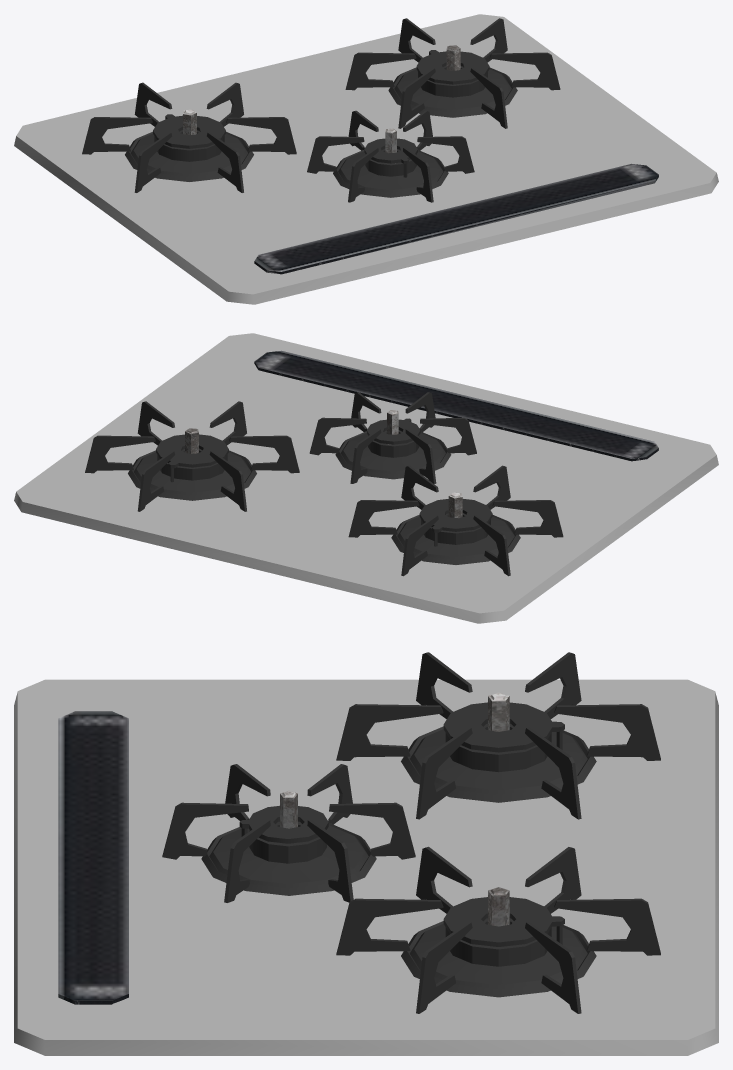
The model's file is SM_Stove_1.fbx.
3 renders of one model, top to bottom at view 1: azimuth 30°, elevation 25°; view 2: azimuth 150°, elevation 25°; view 3: azimuth 270°, elevation 25°, orthographic. The views are drawn at different scales.
Visible parts, largest first — view 1: GDLM1221_GDLM948_mLayer55_157, GDLM1162_GDLM769_mLayer112_52.026, GDLM1266_GDLM1079_mLayer62_241.001, GDLM1219_GDLM941_mLayer63_153, GDLM1162_GDLM769_mLayer112_52.010; view 2: GDLM1221_GDLM948_mLayer55_157, GDLM1162_GDLM769_mLayer112_52.026, GDLM1266_GDLM1079_mLayer62_241.001, GDLM1219_GDLM941_mLayer63_153, GDLM1162_GDLM769_mLayer112_52.010; view 3: GDLM1221_GDLM948_mLayer55_157, GDLM1162_GDLM769_mLayer112_52.026, GDLM1266_GDLM1079_mLayer62_241.001, GDLM1219_GDLM941_mLayer63_153, GDLM1162_GDLM769_mLayer112_52.010.
Part boxes in pixels (box(x1,y1,x2,y2)): GDLM1221_GDLM948_mLayer55_157: box(14, 14, 718, 304); GDLM1162_GDLM769_mLayer112_52.026: box(345, 18, 560, 128); GDLM1266_GDLM1079_mLayer62_241.001: box(82, 82, 296, 192); GDLM1219_GDLM941_mLayer63_153: box(254, 163, 658, 274); GDLM1162_GDLM769_mLayer112_52.010: box(307, 110, 474, 202); GDLM1221_GDLM948_mLayer55_157: box(14, 333, 718, 623); GDLM1162_GDLM769_mLayer112_52.026: box(85, 401, 299, 511); GDLM1266_GDLM1079_mLayer62_241.001: box(348, 465, 563, 576); GDLM1219_GDLM941_mLayer63_153: box(254, 350, 658, 461); GDLM1162_GDLM769_mLayer112_52.010: box(309, 392, 476, 483); GDLM1221_GDLM948_mLayer55_157: box(14, 679, 718, 1055); GDLM1162_GDLM769_mLayer112_52.026: box(336, 846, 660, 1013); GDLM1266_GDLM1079_mLayer62_241.001: box(336, 652, 660, 819); GDLM1219_GDLM941_mLayer63_153: box(58, 711, 128, 1004); GDLM1162_GDLM769_mLayer112_52.010: box(162, 764, 415, 902).
Bounding box in the file's own units: 0.5601 × 0.0574 × 0.4593.
5 materials, 5 textured.
